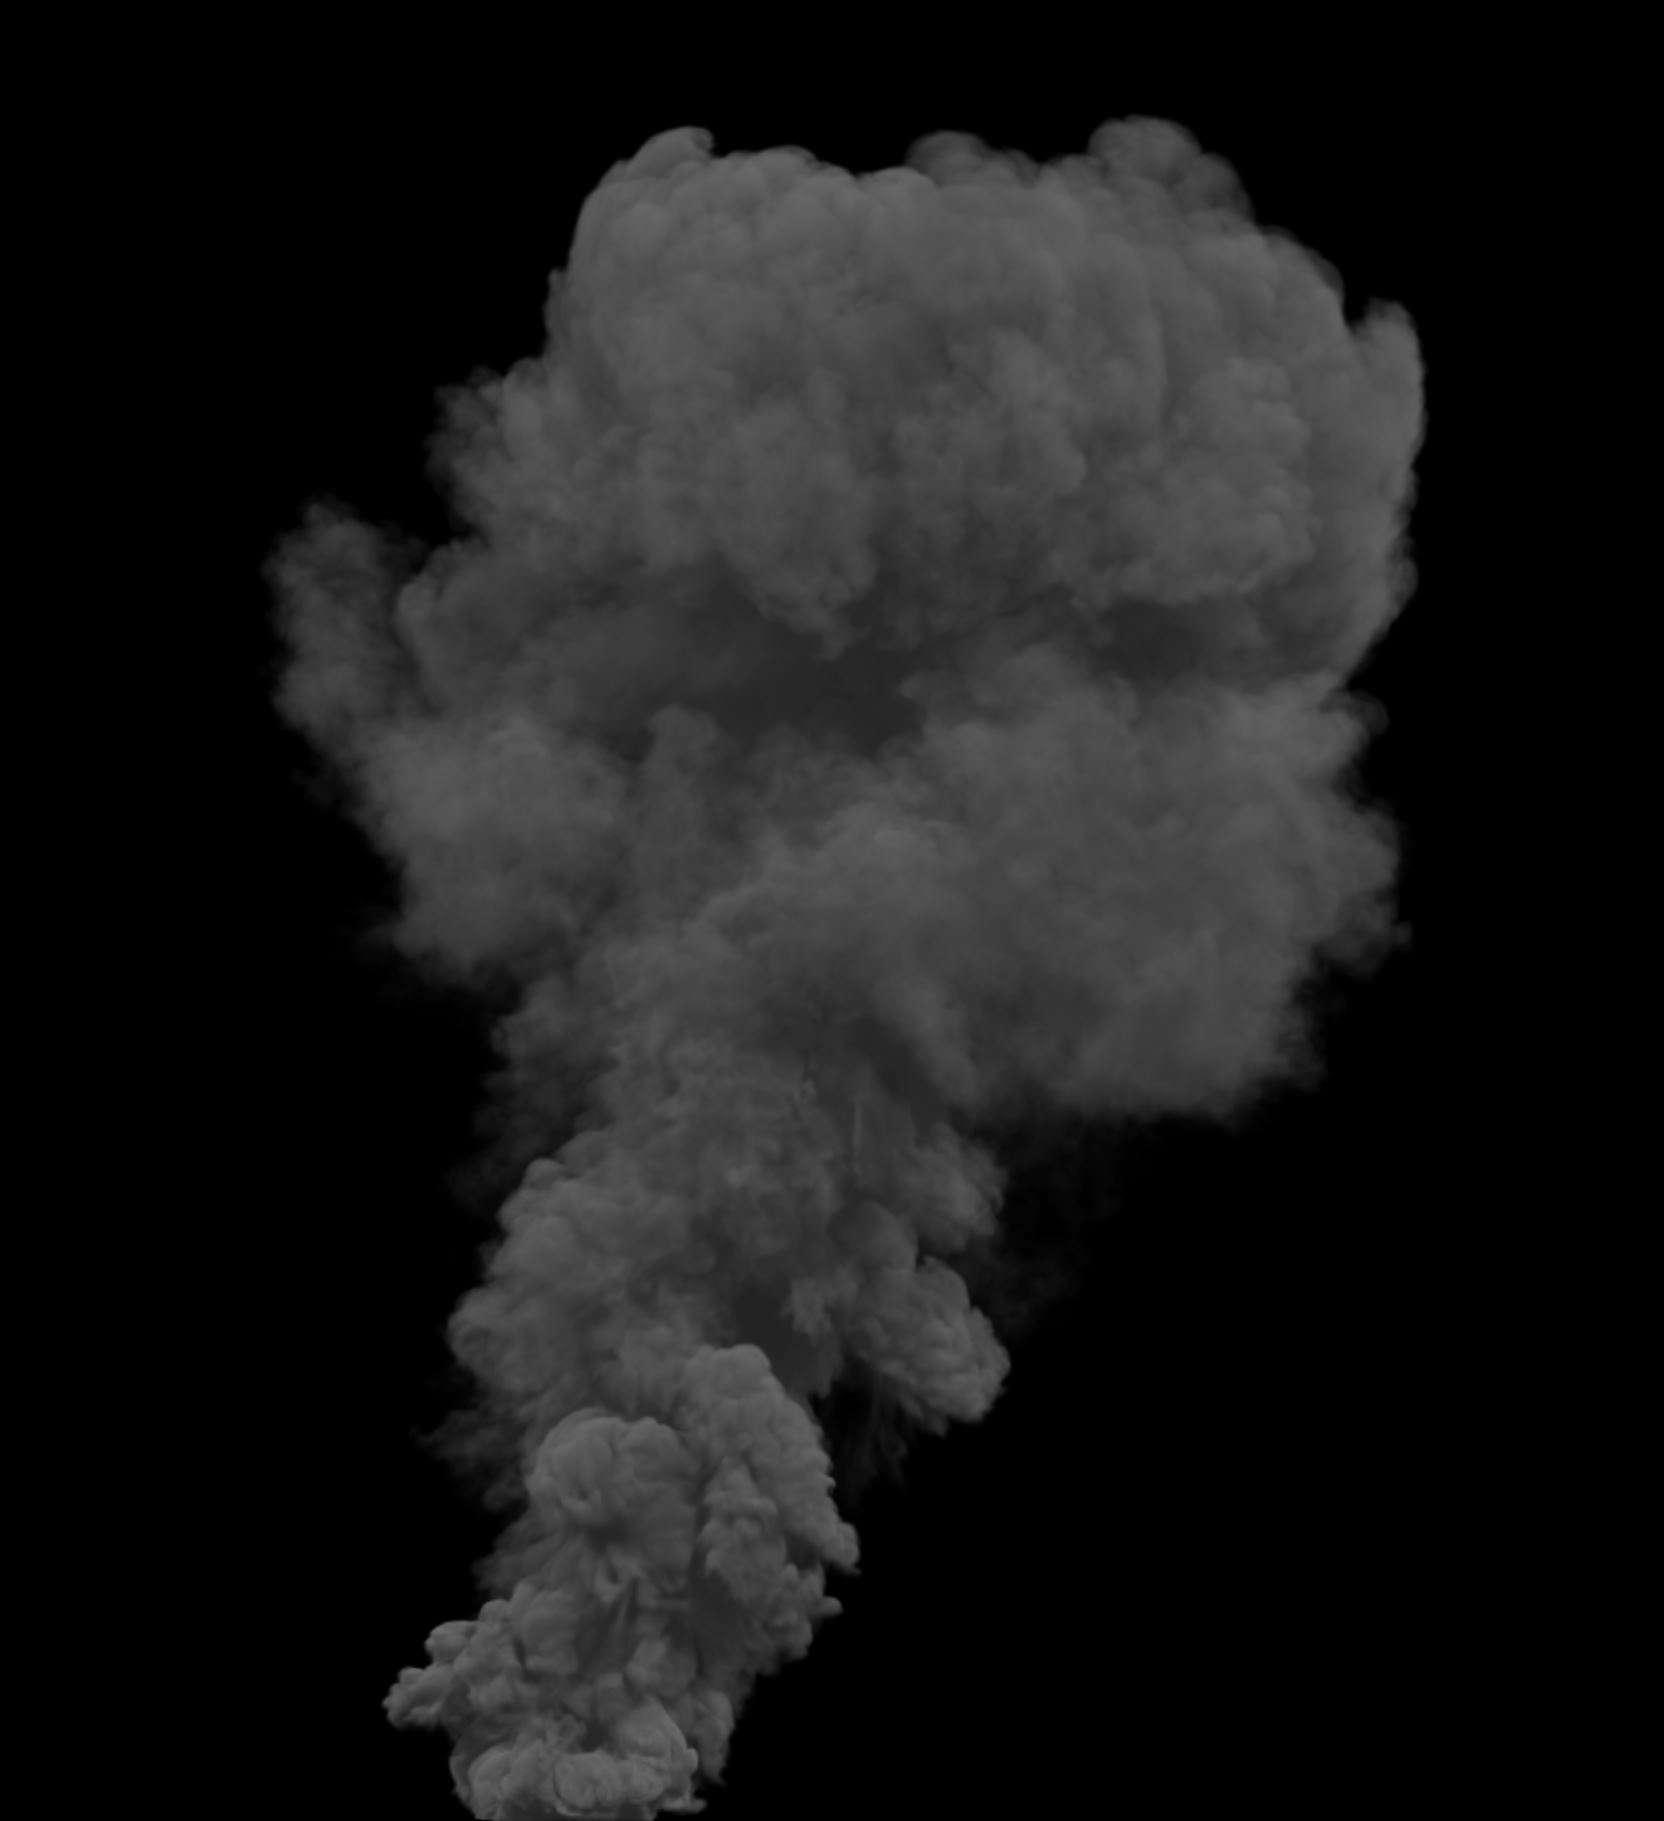smoke: (227, 90, 1470, 1807)
